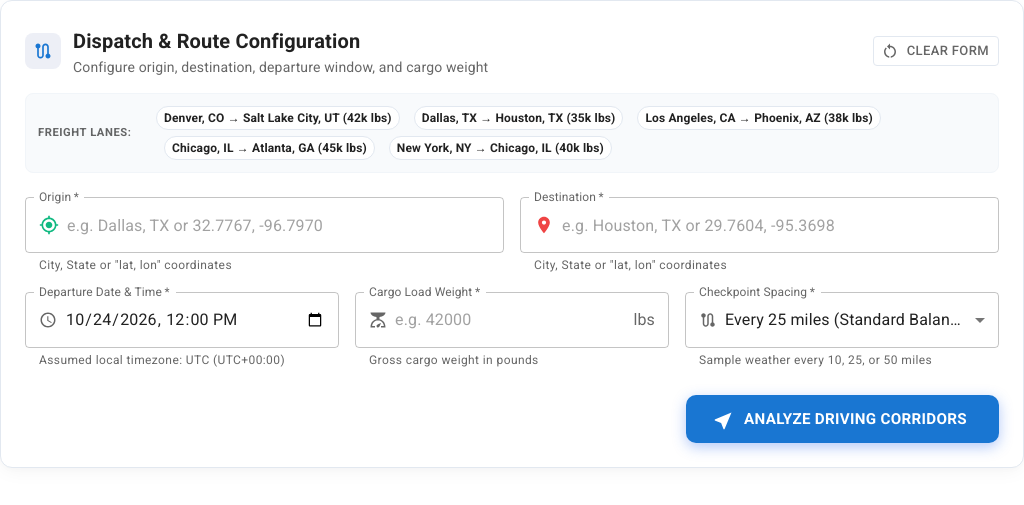
it: TripPlannerForm component › validates zero or negative load weight
In the field named "origin address": (286, 225) [67, 197, 504, 253], type "Denver, CO"
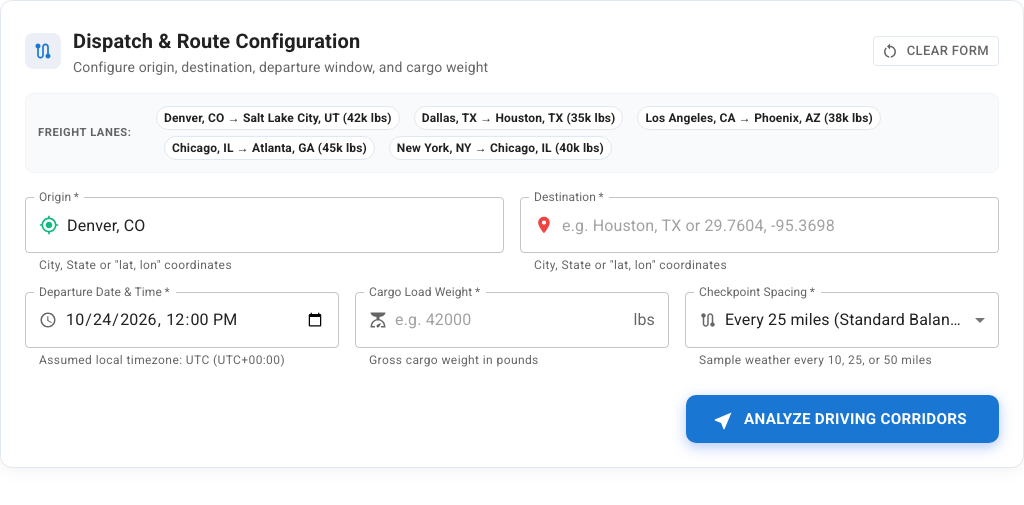
In the field named "destination address": (780, 225) [562, 197, 999, 253], type "Salt Lake City, UT"
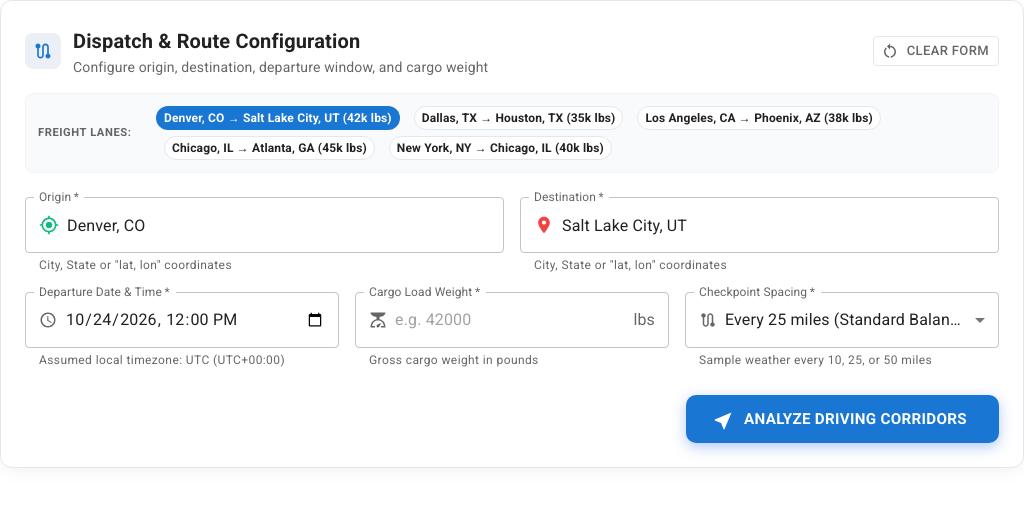
In the number field labelled "Cargo Load Weight *": (510, 320) [395, 292, 625, 348], type "-500"
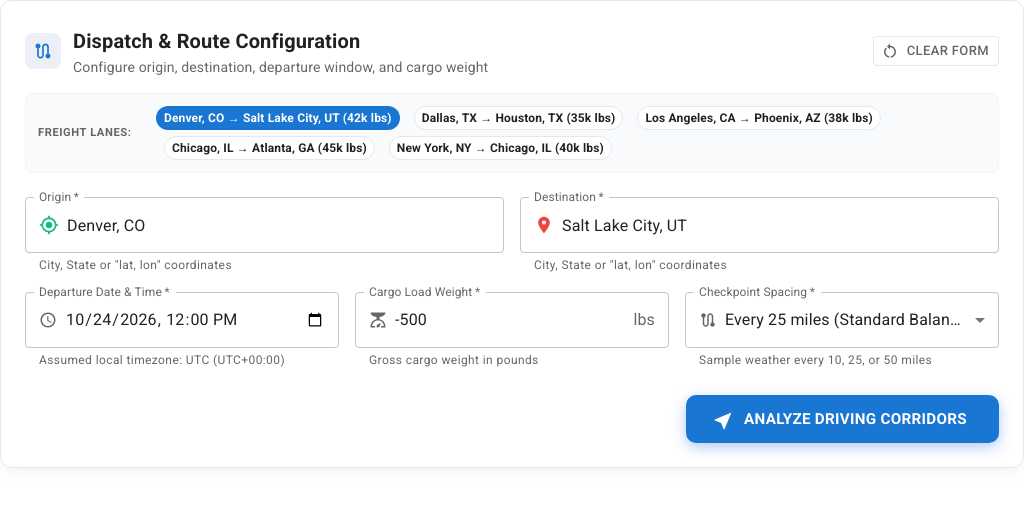
Click the button "Analyze Driving Corridors": (842, 419) [686, 395, 999, 443]
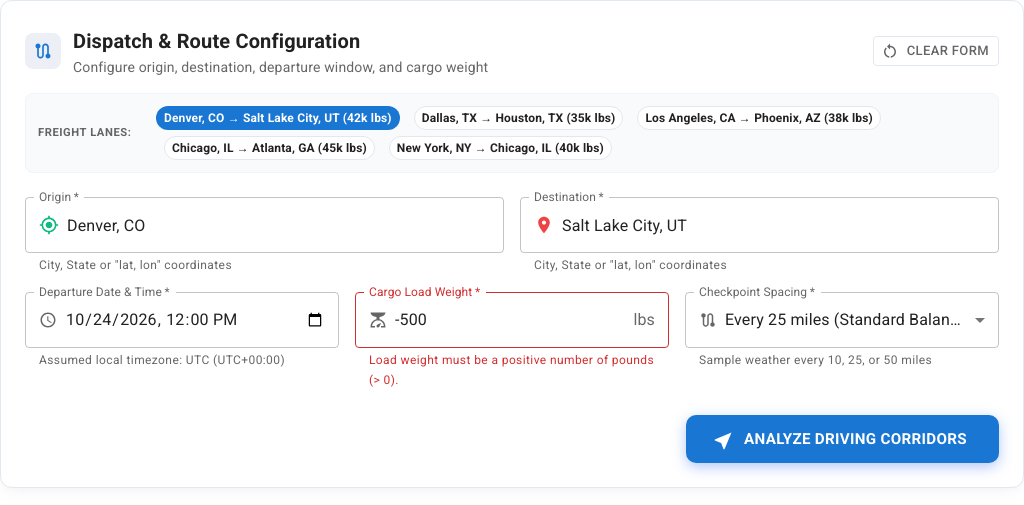
Expected: the text "Load weight must be a positive number of pounds (> 0)." is shown, [369, 351, 655, 391]
